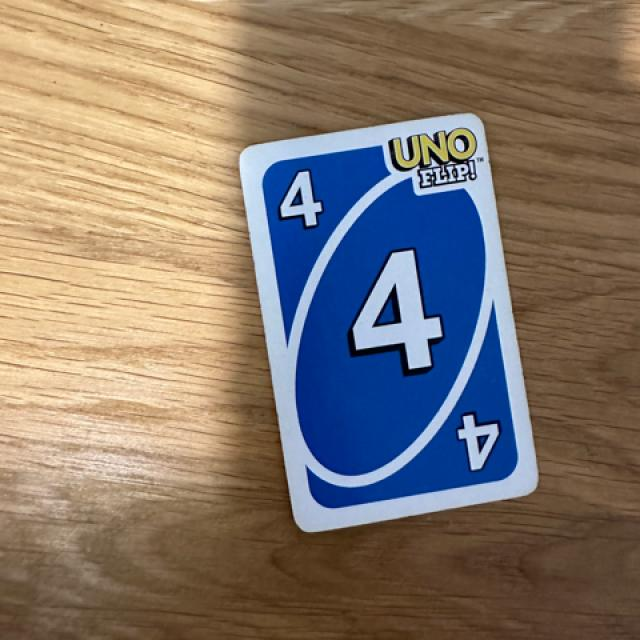lblue-4: (259, 150, 350, 252)
